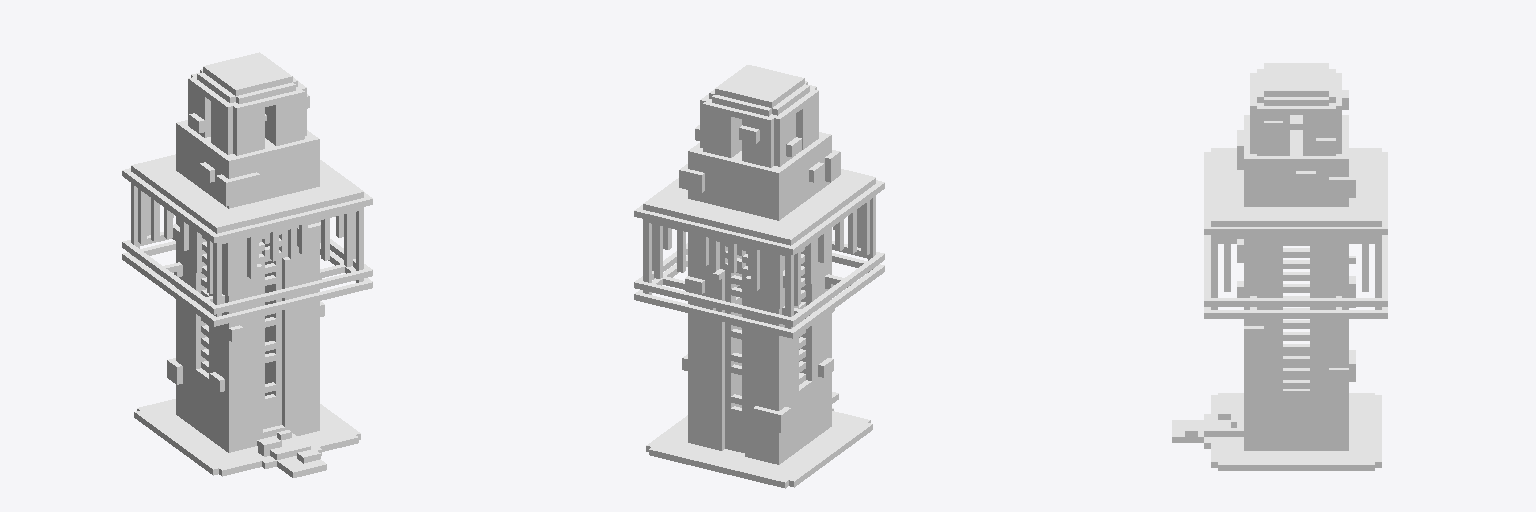
Rendered from SmallBuilding02.obj.
The picture shows the model from 3 angles: view 1: azimuth 30°, elevation 25°; view 2: azimuth 150°, elevation 25°; view 3: azimuth 270°, elevation 25°; orthographic projection.
Parts seen in each view (by area): view 1: object 1; view 2: object 1; view 3: object 1.
Part boxes in pixels (left/top/right/bottom): object 1: left=122, top=52, right=372, bottom=477; object 1: left=634, top=65, right=884, bottom=488; object 1: left=1172, top=63, right=1387, bottom=470.
Size of the model in its own units: 2.8 by 6 by 3.3.